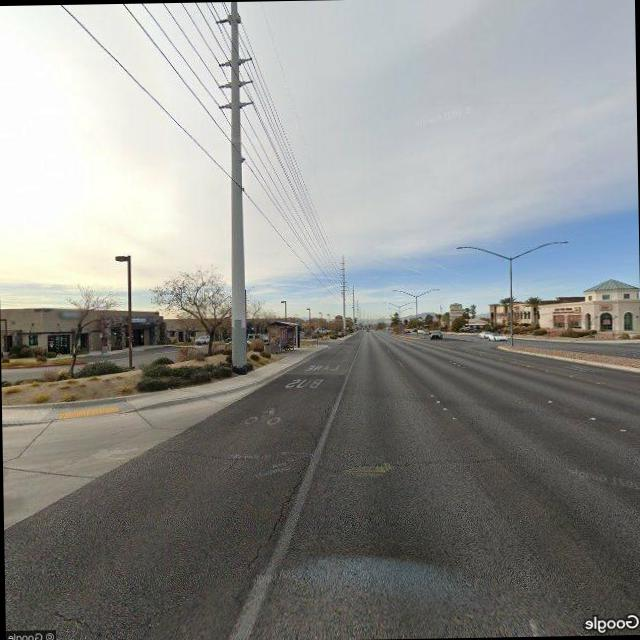pothole: (247, 434, 325, 568)
